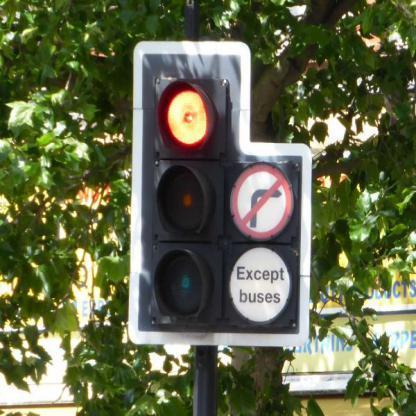Red Light: (140, 52, 236, 340)
